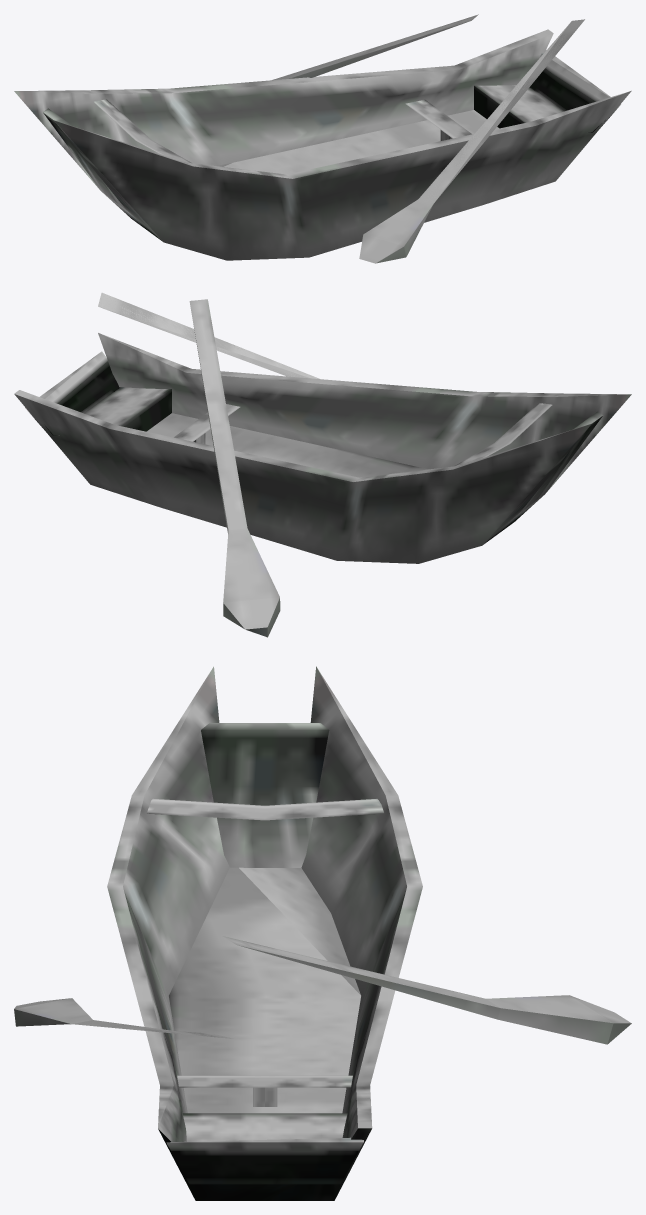
File: general_obj_ferryboat03_lod_01.fbx
The picture shows the model from 3 angles, top to bottom: view 1: azimuth 30°, elevation 25°; view 2: azimuth 150°, elevation 25°; view 3: azimuth 270°, elevation 25°; orthographic projection. The views are drawn at different scales.
Visible parts, largest first — view 1: Object10; view 2: Object10; view 3: Object10.
Part boxes in pixels (x1,y1,x2,y2): Object10: [14, 14, 631, 263]; Object10: [14, 292, 631, 637]; Object10: [14, 666, 631, 1200].
Size of the model in its own units: 5.3 by 1.67 by 3.99.
